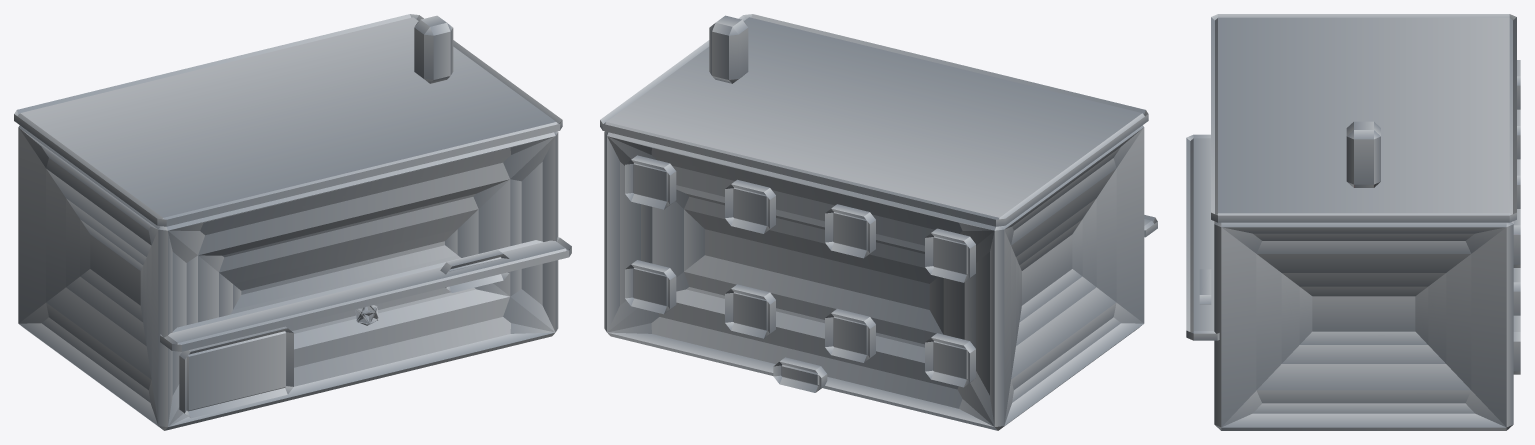
File: dt_corner_bakery.fbx
3 views of the same model, side by side, from view 1: azimuth 30°, elevation 25°; view 2: azimuth 150°, elevation 25°; view 3: azimuth 270°, elevation 25° (orthographic).
Visible parts, largest first — view 1: dt_corner_bakery; view 2: dt_corner_bakery; view 3: dt_corner_bakery.
Part boxes in pixels (x1,y1,x2,y2): dt_corner_bakery: [14, 14, 571, 430]; dt_corner_bakery: [600, 14, 1157, 430]; dt_corner_bakery: [1186, 14, 1520, 430].
Size of the model in its own units: 2200 by 1430 by 1541.
